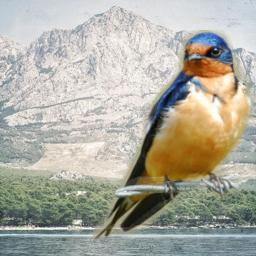Swallow: (93, 30, 255, 241)
